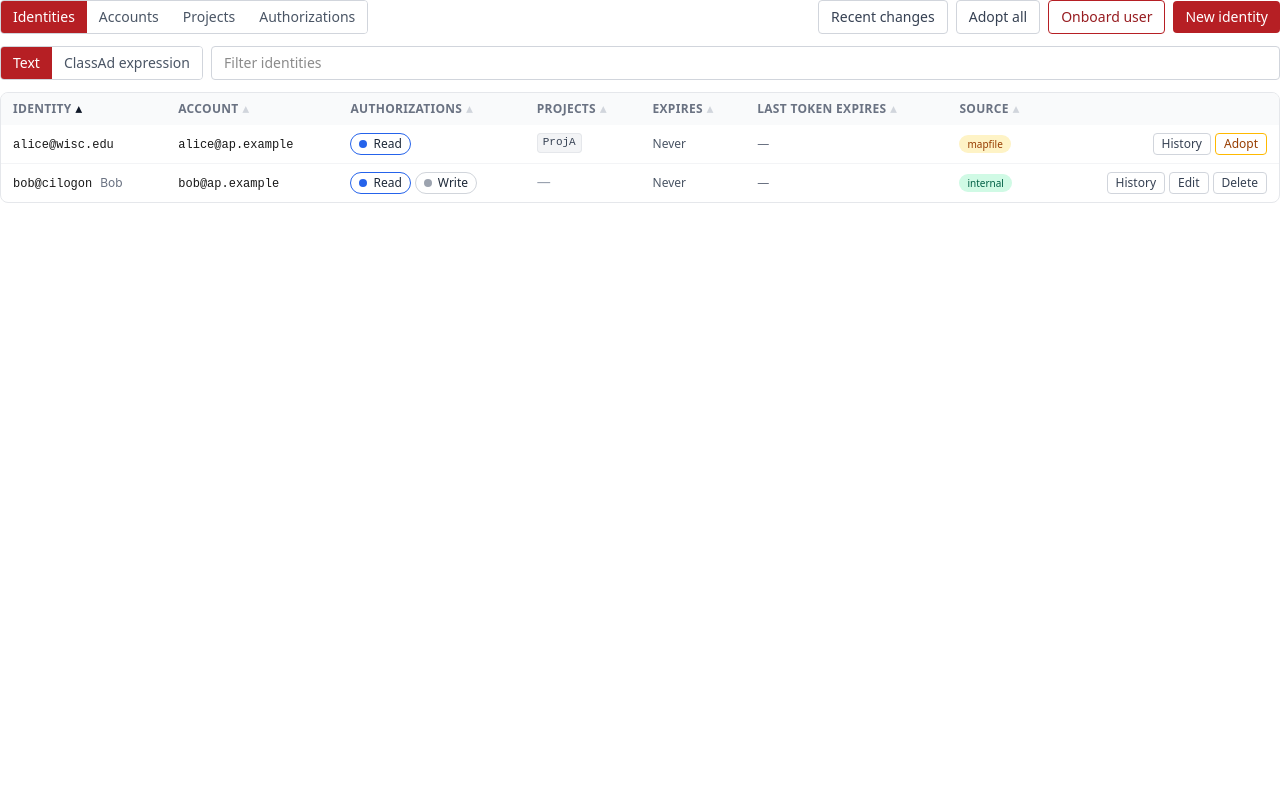
Test case: Directory › adopts a map file row at the version it was loaded at
Step 1. Click the button "Adopt" → (1241, 144), box [1215,133,1267,155]
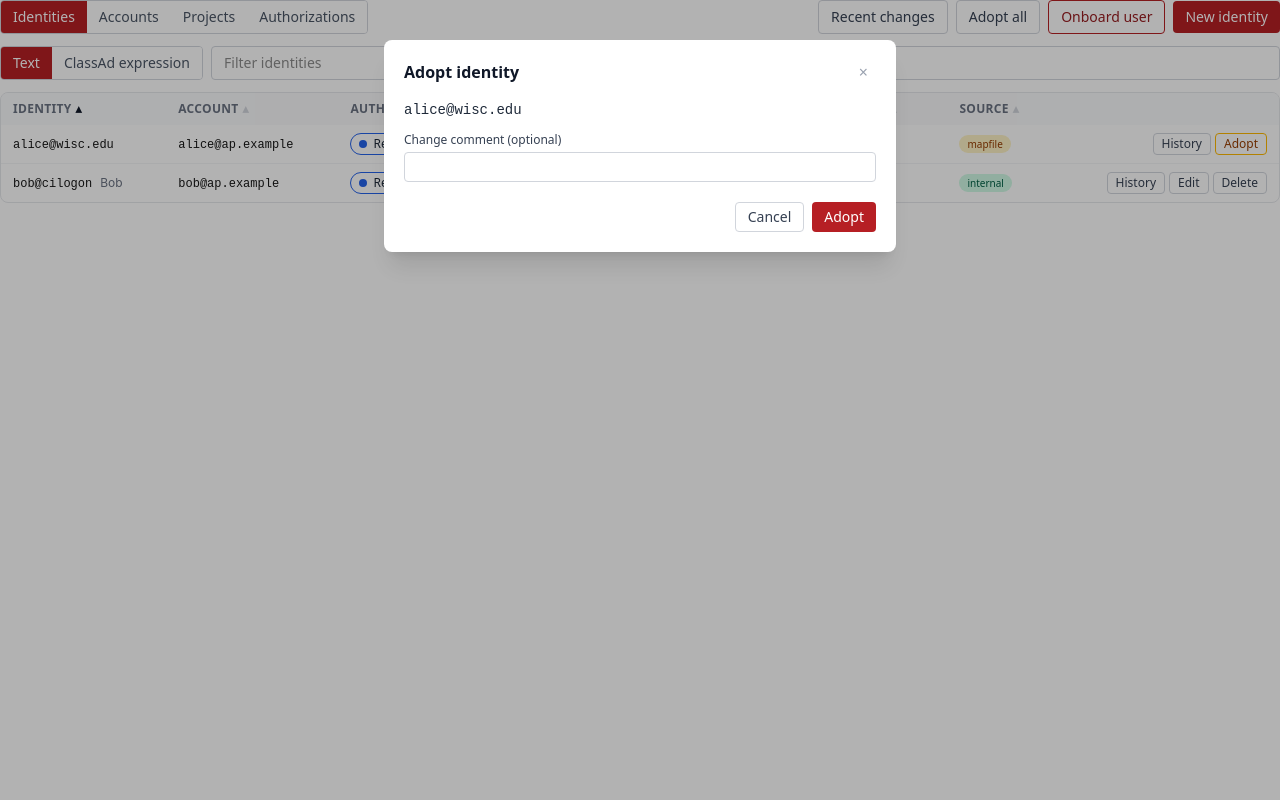
Step 2. Type "moving off the map file" into the field labelled "Change comment (optional)" → (640, 167), box [404,152,876,182]
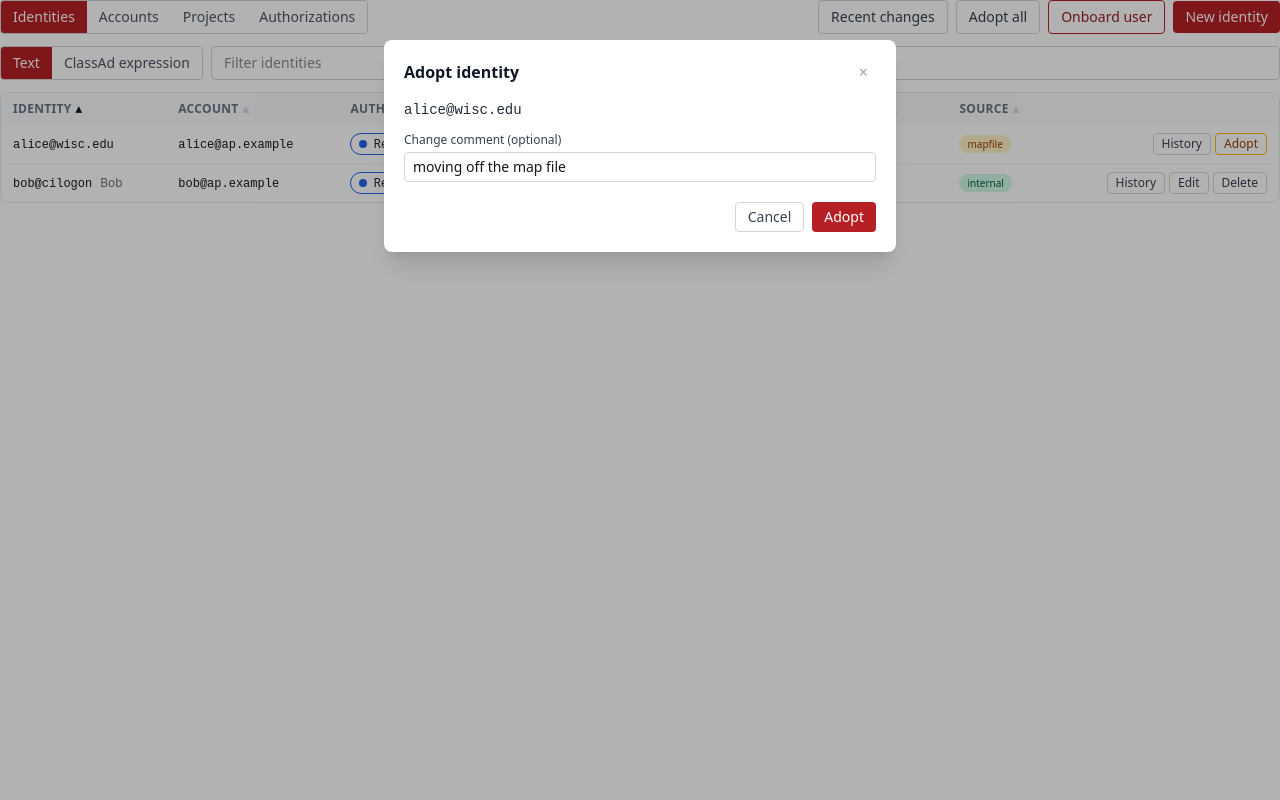
Step 3. Click the button "Adopt" → (844, 217), box [812,202,876,232]
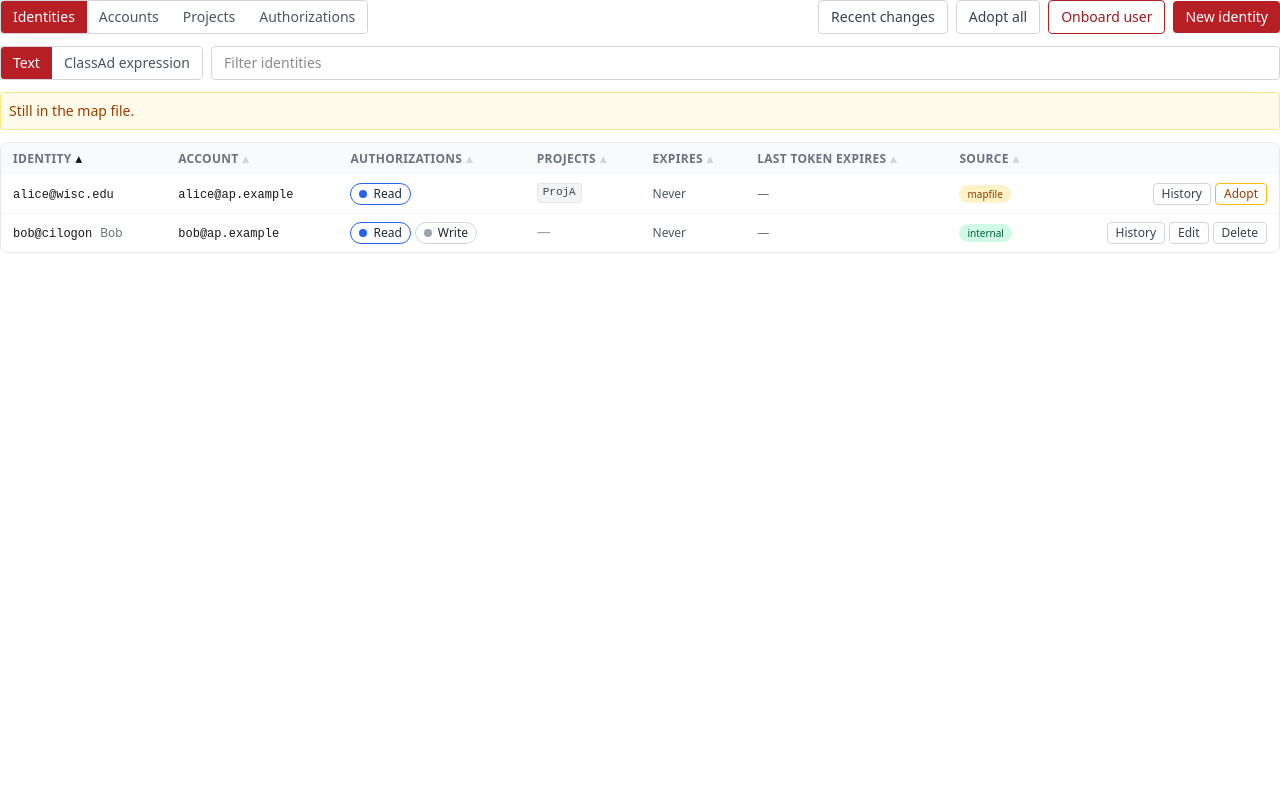
Expected: the text "Still in the map file." is shown, [0,92,1279,130]
